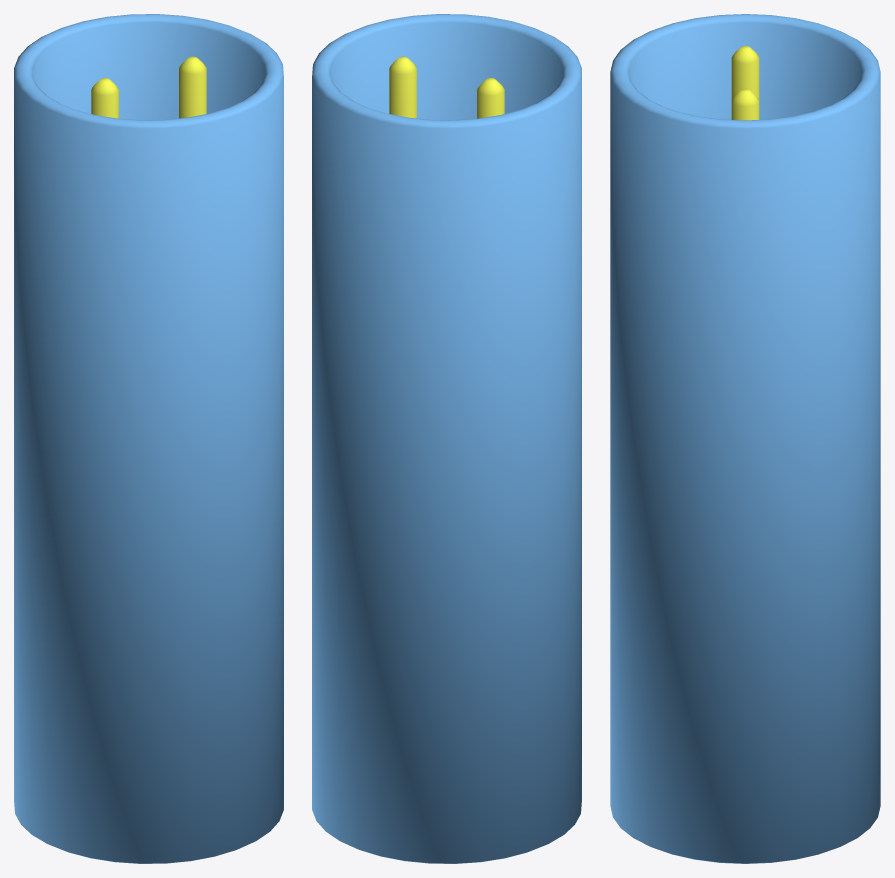
File: 1948_transistor_v2.fbx
3 views of the same model, side by side, from view 1: azimuth 30°, elevation 25°; view 2: azimuth 150°, elevation 25°; view 3: azimuth 270°, elevation 25° (orthographic).
Parts seen in each view (by area): view 1: 1948_transistor; view 2: 1948_transistor; view 3: 1948_transistor.
Part boxes in pixels (box(x1,y1,x2,y2)): 1948_transistor: box(14, 14, 283, 863); 1948_transistor: box(312, 14, 581, 863); 1948_transistor: box(610, 14, 880, 863).
Bounding box in the file's own units: 160 × 485 × 160.
